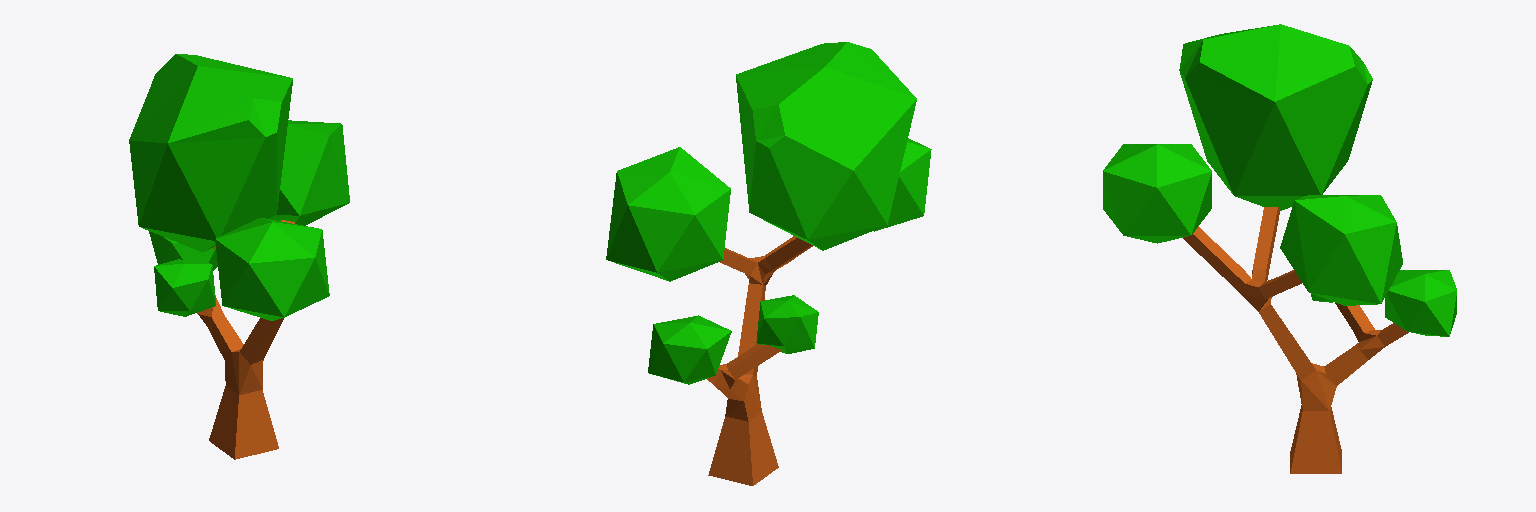
File: dtree6C(F197).obj
The picture shows the model from 3 angles: view 1: azimuth 30°, elevation 25°; view 2: azimuth 150°, elevation 25°; view 3: azimuth 270°, elevation 25°; orthographic projection.
Parts seen in each view (by area): view 1: Icosphere.055, Icosphere.056, Cube.013, Icosphere.054, Icosphere.052, Icosphere.053; view 2: Icosphere.055, Icosphere.054, Cube.013, Icosphere.053, Icosphere.052, Icosphere.056; view 3: Icosphere.055, Cube.013, Icosphere.054, Icosphere.056, Icosphere.053.
Part boxes in pixels (left/top/right/bottom): Icosphere.055: left=129, top=54, right=292, bottom=251; Icosphere.056: left=215, top=218, right=329, bottom=320; Cube.013: left=197, top=220, right=294, bottom=459; Icosphere.054: left=269, top=120, right=349, bottom=225; Icosphere.052: left=154, top=259, right=215, bottom=316; Icosphere.053: left=149, top=231, right=217, bottom=270; Icosphere.055: left=736, top=42, right=916, bottom=250; Icosphere.054: left=606, top=147, right=730, bottom=281; Cube.013: left=707, top=236, right=812, bottom=485; Icosphere.053: left=648, top=315, right=731, bottom=384; Icosphere.052: left=756, top=295, right=818, bottom=353; Icosphere.056: left=874, top=138, right=931, bottom=231; Icosphere.055: left=1179, top=24, right=1372, bottom=210; Cube.013: left=1183, top=207, right=1408, bottom=473; Icosphere.054: left=1280, top=195, right=1402, bottom=305; Icosphere.056: left=1103, top=144, right=1211, bottom=243; Icosphere.053: left=1385, top=270, right=1456, bottom=336.
Bounding box in the file's own units: 1.39 × 2.28 × 1.8.